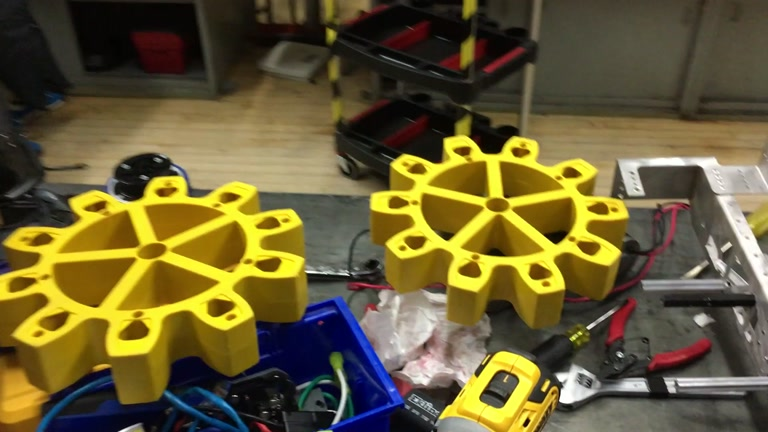gear: (1, 175, 306, 405), (368, 135, 629, 329)
